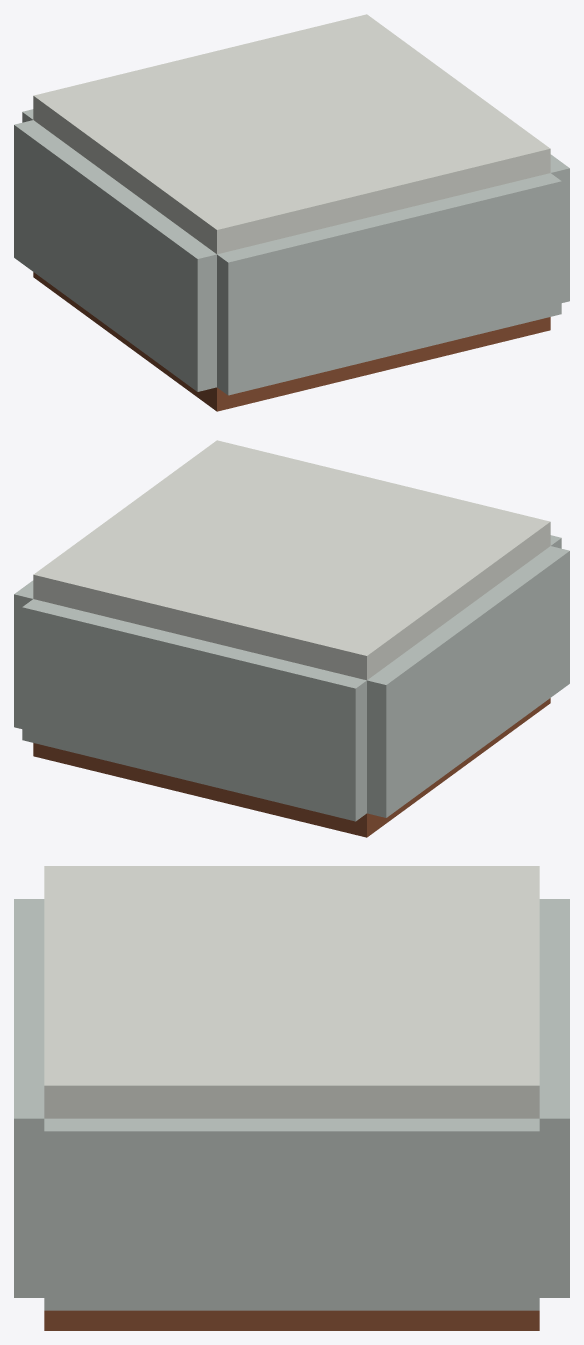
3 views of the same model, one above another, from view 1: azimuth 30°, elevation 25°; view 2: azimuth 150°, elevation 25°; view 3: azimuth 270°, elevation 25° (orthographic). The views are drawn at different scales.
Visible parts, largest first — view 1: Ceiling, Wall_01, Wall_04, Floor, Wall_02; view 2: Ceiling, Wall_03, Wall_04, Floor, Wall_02; view 3: Ceiling, Wall_02, Wall_01, Wall_03, Floor.
Boxes of the visible parts, x1=… form: Ceiling: x1=33, y1=14, x2=550, y2=254; Wall_01: x1=217, y1=173, x2=561, y2=395; Wall_04: x1=14, y1=120, x2=216, y2=391; Floor: x1=33, y1=272, x2=550, y2=411; Wall_02: x1=550, y1=154, x2=569, y2=302; Ceiling: x1=33, y1=440, x2=550, y2=680; Wall_03: x1=22, y1=599, x2=366, y2=821; Wall_04: x1=367, y1=546, x2=569, y2=817; Floor: x1=33, y1=698, x2=550, y2=837; Wall_02: x1=14, y1=580, x2=33, y2=728; Ceiling: x1=44, y1=866, x2=539, y2=1118; Wall_02: x1=44, y1=1118, x2=539, y2=1310; Wall_01: x1=14, y1=899, x2=44, y2=1297; Wall_03: x1=539, y1=899, x2=569, y2=1297; Floor: x1=44, y1=1310, x2=539, y2=1330.
Bounding box in the file's own units: 4.8 × 2.24 × 4.6.
